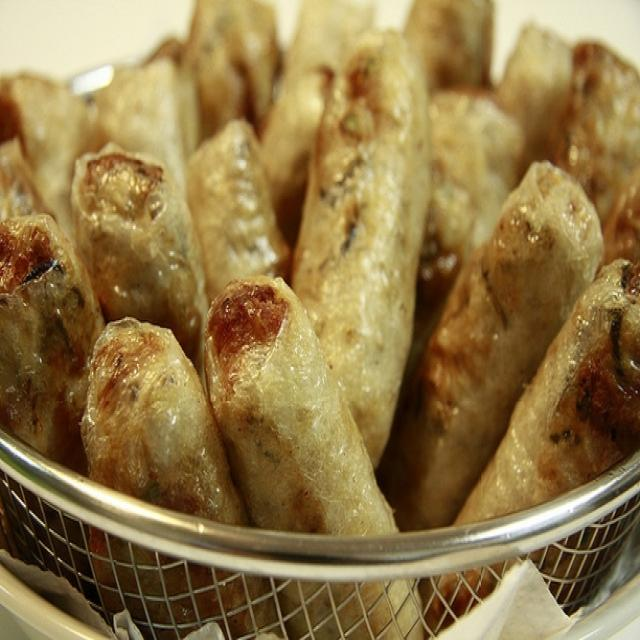炸货点心: (3, 17, 636, 615)
